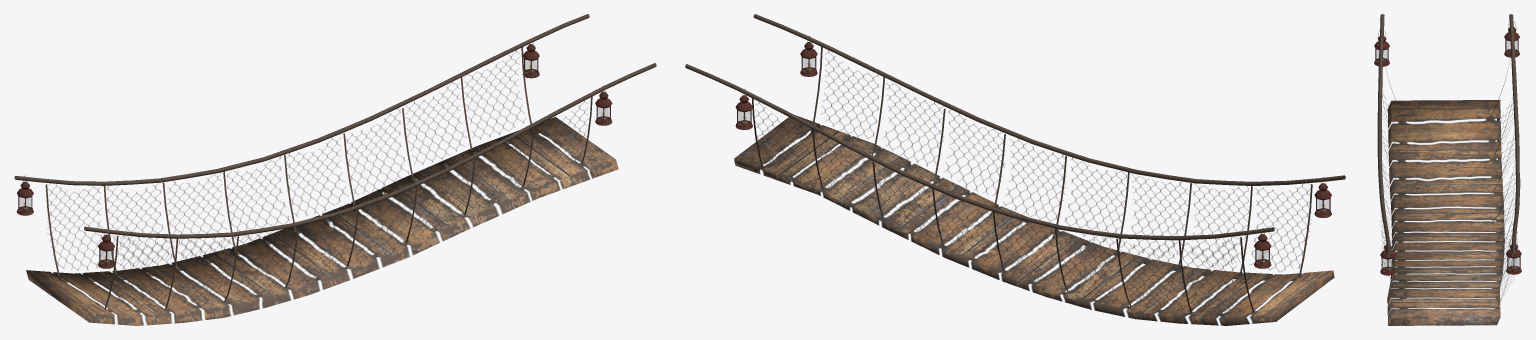
File: ropebridge.glb
3 views of the same model, side by side, from view 1: azimuth 30°, elevation 25°; view 2: azimuth 150°, elevation 25°; view 3: azimuth 270°, elevation 25° (orthographic). The views are drawn at different scales.
Visible parts, largest first — view 1: defaultMaterial; view 2: defaultMaterial; view 3: defaultMaterial.
Boxes of the visible parts, x1,y1,x2,y2 form: defaultMaterial: [14, 14, 656, 325]; defaultMaterial: [685, 14, 1345, 325]; defaultMaterial: [1374, 14, 1521, 325].
Size of the model in its own units: 2 by 0.5016 by 0.4809.
Materials: 2 (2 with a texture image).
